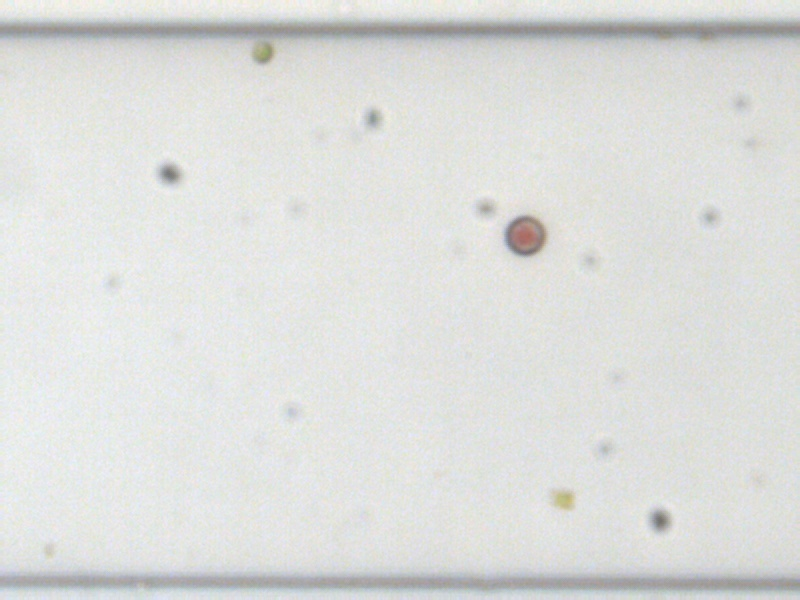Chlorella: (550, 485, 573, 511), (249, 40, 272, 63)
Porphyridium: (503, 215, 545, 257)
